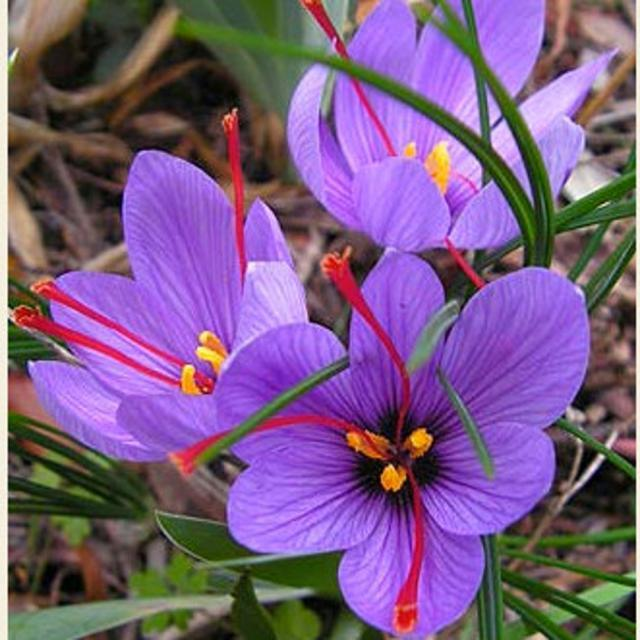Flower: (225, 261, 594, 613), (8, 148, 308, 466), (294, 1, 616, 249)
stigma: (316, 241, 418, 425), (296, 2, 411, 162), (35, 234, 184, 354), (168, 406, 388, 484), (14, 306, 180, 406), (376, 474, 440, 640), (216, 109, 258, 289)
